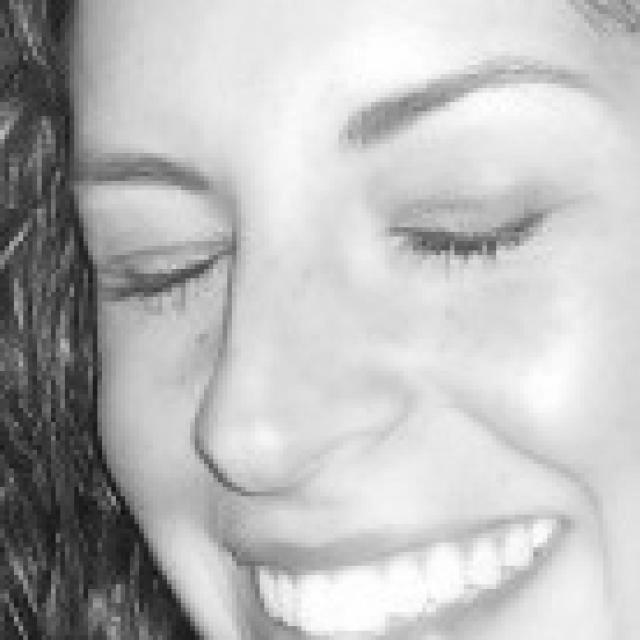real: (72, 0, 634, 638), (125, 174, 564, 318)
